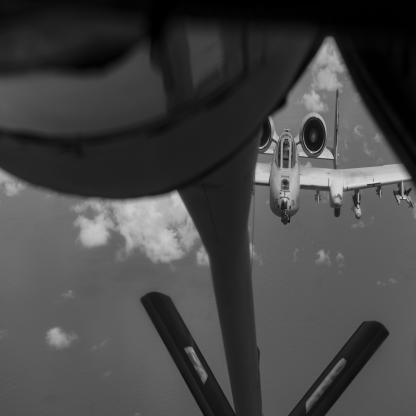A10: (252, 89, 415, 226)
